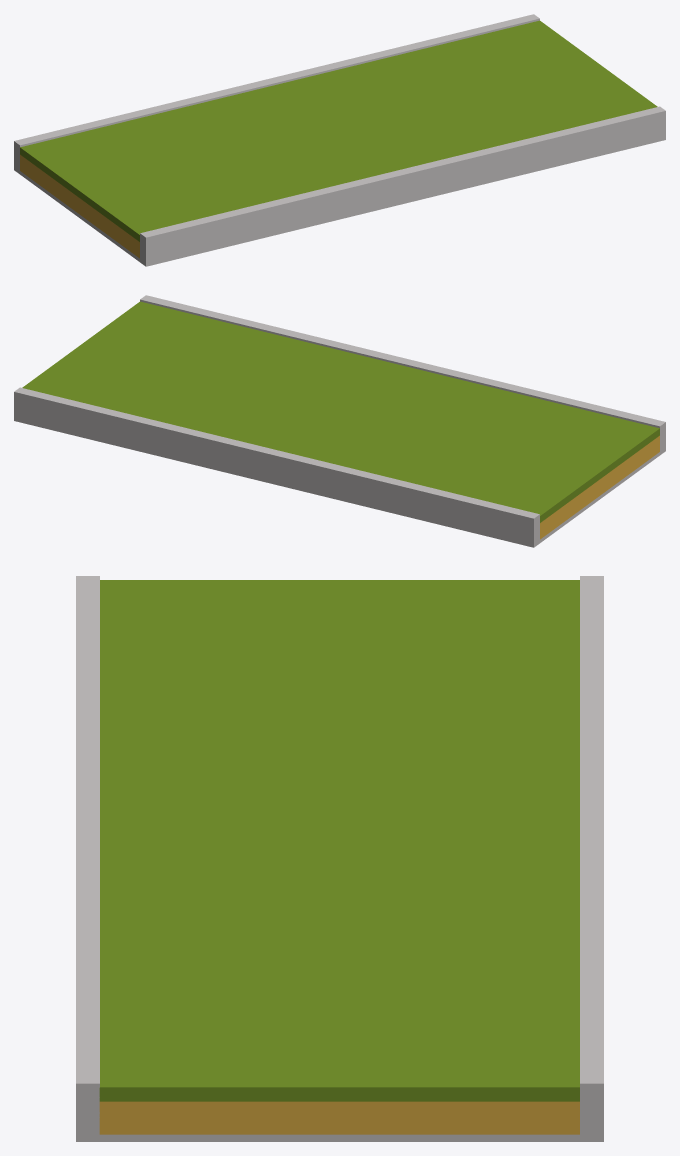
Rendered from Grass3.2.fbx.
The picture shows the model from 3 angles, top to bottom: view 1: azimuth 30°, elevation 25°; view 2: azimuth 150°, elevation 25°; view 3: azimuth 270°, elevation 25°; orthographic projection. The views are drawn at different scales.
Parts seen in each view (by area): view 1: Cube, Cube.001, Cube.002; view 2: Cube, Cube.002, Cube.001; view 3: Cube, Cube.001, Cube.002.
Part boxes in pixels (x1=…): Cube: x1=20, y1=20, x2=657, y2=261; Cube.001: x1=140, y1=106, x2=665, y2=266; Cube.002: x1=14, y1=14, x2=539, y2=174; Cube: x1=22, y1=301, x2=659, y2=542; Cube.002: x1=14, y1=387, x2=539, y2=547; Cube.001: x1=140, y1=295, x2=665, y2=455; Cube: x1=99, y1=580, x2=579, y2=1141; Cube.001: x1=76, y1=576, x2=99, y2=1141; Cube.002: x1=580, y1=576, x2=603, y2=1141.
Size of the model in its own units: 2000 by 107 by 880.
